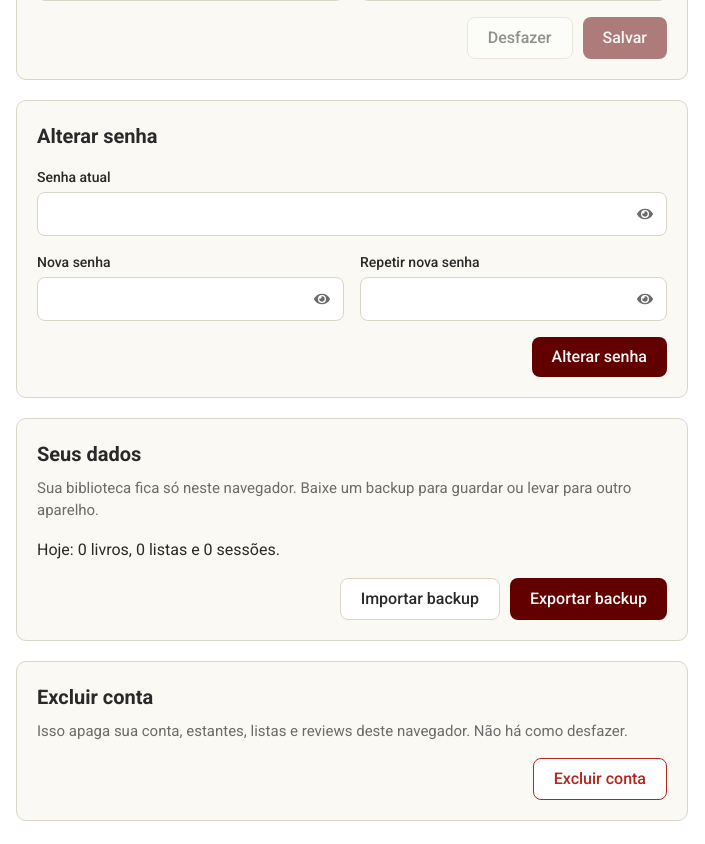
Test: UserConfig › mantém a conta quando a senha está errada
(page scrolled)
Click the button "Excluir conta" at x=600, y=779, box [533,758,667,800]
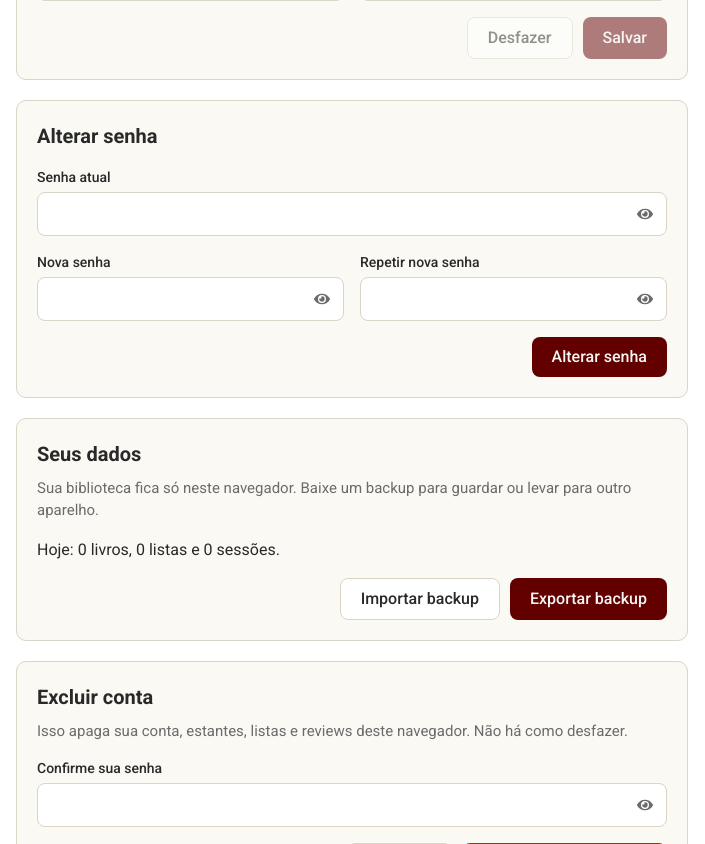
Type "senha-errada" into the password field labelled "Confirme sua senha" at x=352, y=805, box [37,783,667,827]
(page scrolled)
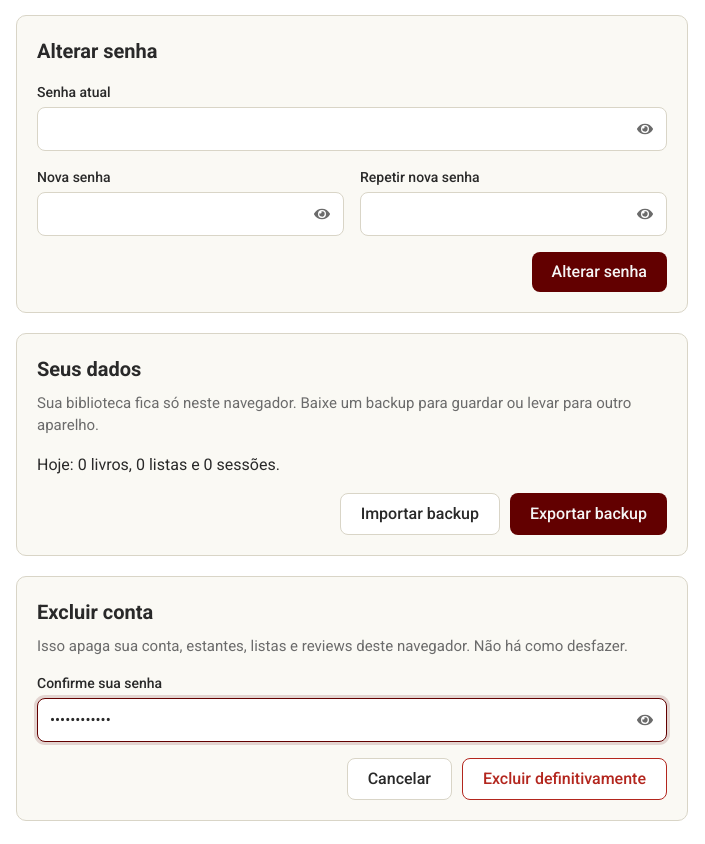
Click the button "Excluir definitivamente" at x=564, y=779, box [462,758,667,800]
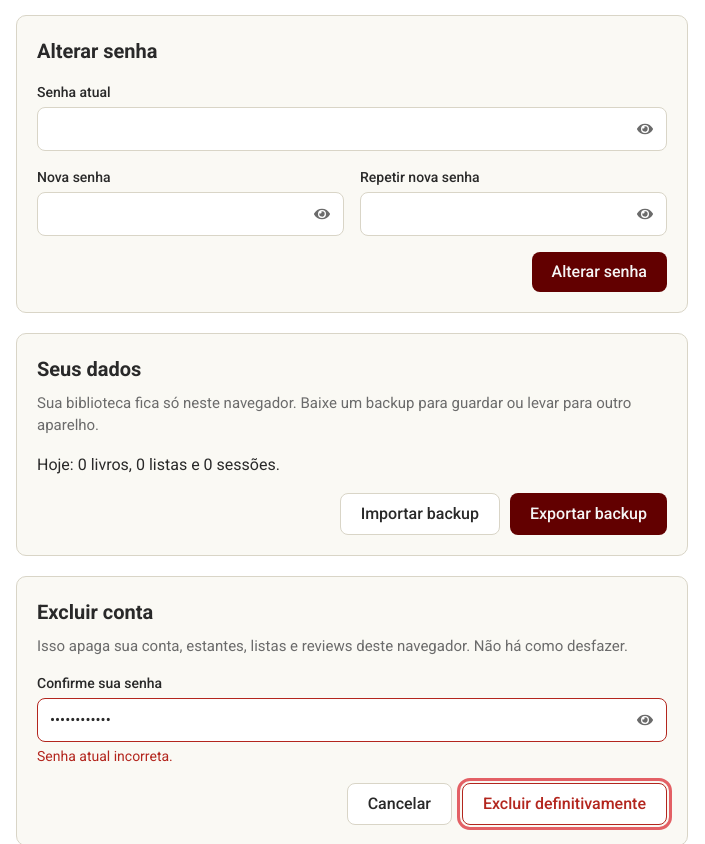
Now the text "Senha atual incorreta." is shown, box [37,748,173,764]
